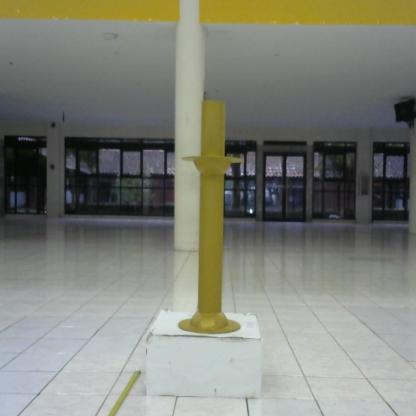pole: (175, 97, 248, 341)
